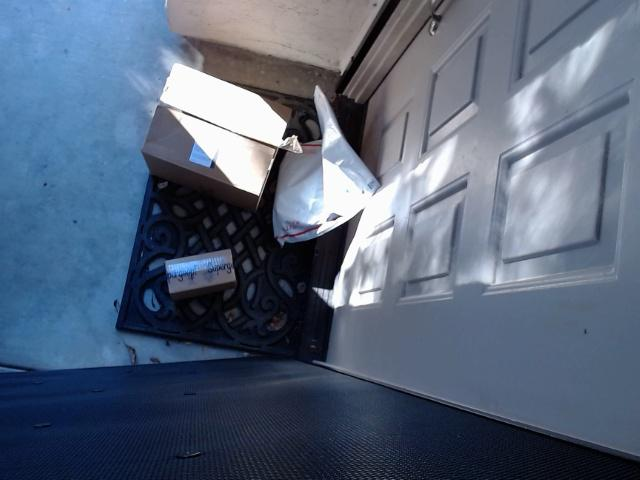box: (141, 63, 291, 213), (166, 249, 236, 300)
plastic_bag: (273, 84, 381, 247)
